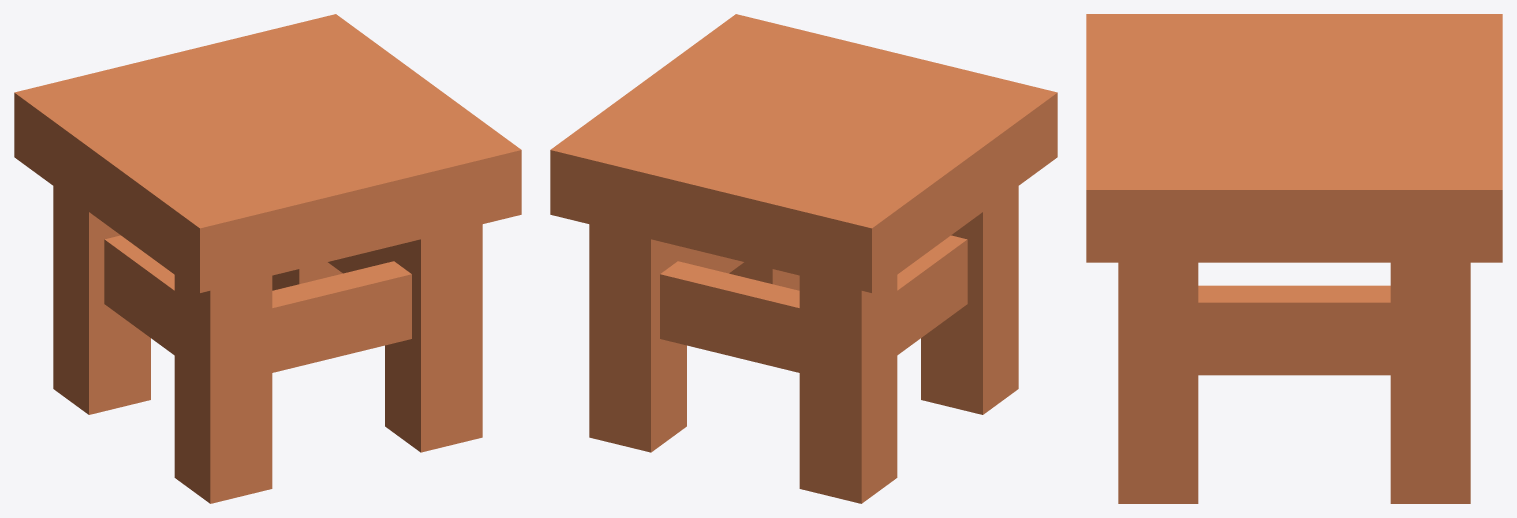
The model's file is stallStool.fbx.
3 renders of one model, left to right at view 1: azimuth 30°, elevation 25°; view 2: azimuth 150°, elevation 25°; view 3: azimuth 270°, elevation 25°, orthographic. The views are drawn at different scales.
Visible parts, largest first — view 1: stallStool; view 2: stallStool; view 3: stallStool.
Part boxes in pixels (x1,y1,x2,y2): stallStool: (14, 14, 521, 503); stallStool: (550, 14, 1057, 503); stallStool: (1086, 14, 1502, 503).
Size of the model in its own units: 2.6 by 2.26 by 2.6.
